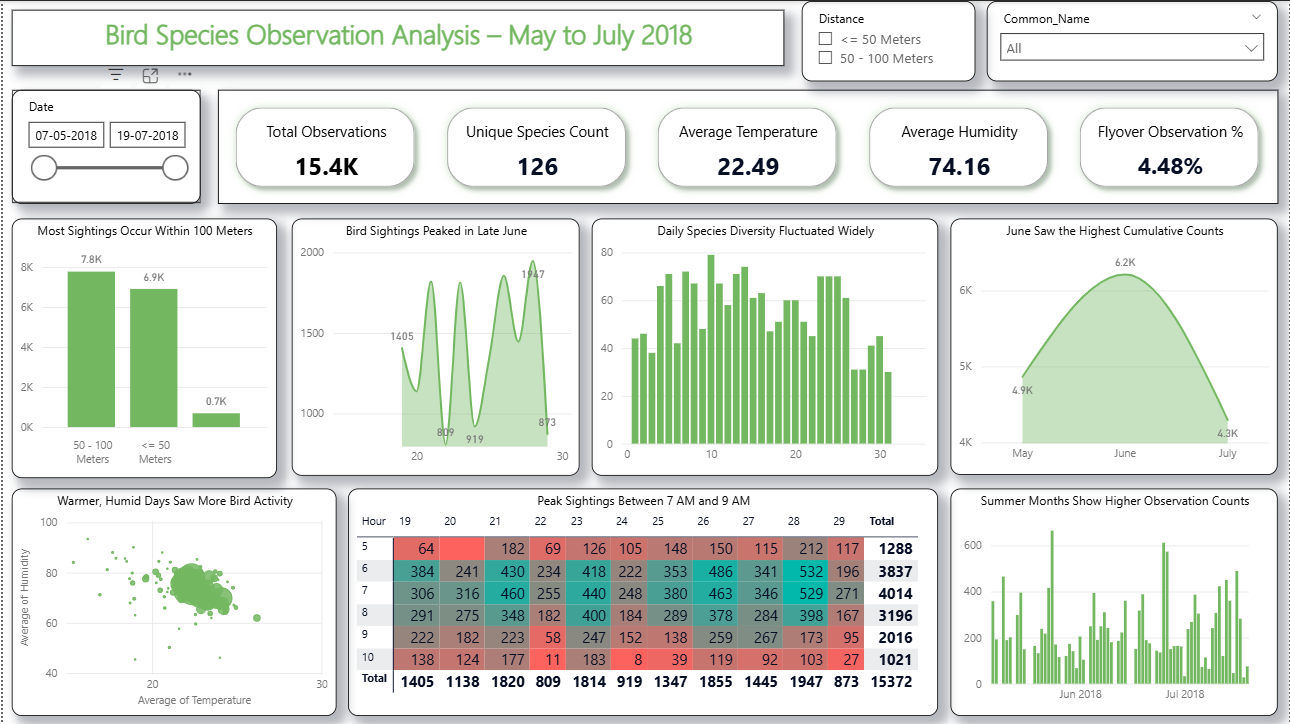

What the dashboard file says about the page in this screenshot:
{"tool":"powerbi","page":{"name":"Page 1","canvas":[1280,720],"ordinal":0},"visuals":[{"type":"cardVisual","fields":{"Data":["bird_observations_cleaned.Total Observations","bird_observations_cleaned.Unique Species Count","bird_observations_cleaned.Average Temperature","bird_observations_cleaned.Average Humidity","bird_observations_cleaned.Flyover Observation %"]},"box":[214,88.3,1054.9,113.2],"z":0},{"type":"lineChart","title":"Bird Sightings Peaked in Late June","fields":{"Y":["bird_observations_cleaned.Total Observations"],"Category":["bird_observations_cleaned.Week Number"]},"box":[287.4,216.4,286.1,256.3],"z":1000},{"type":"columnChart","title":"Daily Species Diversity Fluctuated Widely","fields":{"Category":["bird_observations_cleaned.Date.Variation.Date Hierarchy.Day"],"Y":["bird_observations_cleaned.Unique Species Count"]},"box":[585.9,216.4,344.6,256.3],"z":2000},{"type":"clusteredColumnChart","title":"Summer Months Show Higher Observation Counts","fields":{"Y":["CountNonNull(bird_observations_cleaned.Season)"],"Category":["bird_observations_cleaned.Date"]},"box":[942.9,485.1,325.9,226.4],"z":3000},{"type":"pivotTable","title":"Peak Sightings Between 7 AM and 9 AM","fields":{"Rows":["bird_observations_cleaned.Hour"],"Columns":["bird_observations_cleaned.Week Number"],"Values":["bird_observations_cleaned.Total Observations"]},"box":[343.3,485.1,587.1,226.4],"z":4000},{"type":"scatterChart","title":"Warmer, Humid Days Saw More Bird Activity","fields":{"X":["Avg(bird_observations_cleaned.Temperature)"],"Y":["Avg(bird_observations_cleaned.Humidity)"],"Size":["bird_observations_cleaned.Total Observations"],"Category":["bird_observations_cleaned.Common_Name"]},"box":[8.7,485.1,323.4,226.4],"z":4001},{"type":"lineChart","title":"June Saw the Highest Cumulative Counts","fields":{"Category":["bird_observations_cleaned.Date.Variation.Date Hierarchy.Month","bird_observations_cleaned.Date.Variation.Date Hierarchy.Day"],"Y":["bird_observations_cleaned.Cumulative Observations"]},"box":[942.9,216.4,325.9,255],"z":4002},{"type":"columnChart","title":"Most Sightings Occur Within 100 Meters","fields":{"Category":["bird_observations_cleaned.Distance"],"Y":["bird_observations_cleaned.Total Observations"]},"box":[8.7,216.4,263.7,258.7],"z":4003},{"type":"slicer","fields":{"Values":["bird_observations_cleaned.Date"]},"box":[8.7,88.3,187.8,113.2],"z":4004},{"type":"slicer","fields":{"Values":["bird_observations_cleaned.Common_Name"]},"box":[979,0,289.8,79.6],"z":4005},{"type":"slicer","fields":{"Values":["bird_observations_cleaned.Distance"]},"box":[794.9,0,172.9,79.6],"z":4006},{"type":"textbox","box":[8.7,8.7,768.8,56],"z":4007}]}

Visuals, with their boxes in screenshot pixels (x1, y1, x2, y2), scaled from the page's 1280x720 canvas onto the 1290x724 screenshot:
cardVisual - bird_observations_cleaned.Total Observations x bird_observations_cleaned.Unique Species Count: 216/89/1279/203
"Bird Sightings Peaked in Late June" lineChart: 290/218/578/475
"Daily Species Diversity Fluctuated Widely" columnChart: 590/218/938/475
"Summer Months Show Higher Observation Counts" clusteredColumnChart: 950/488/1279/715
"Peak Sightings Between 7 AM and 9 AM" pivotTable: 346/488/938/715
"Warmer, Humid Days Saw More Bird Activity" scatterChart: 9/488/335/715
"June Saw the Highest Cumulative Counts" lineChart: 950/218/1279/474
"Most Sightings Occur Within 100 Meters" columnChart: 9/218/275/478
slicer - bird_observations_cleaned.Date: 9/89/198/203
slicer - bird_observations_cleaned.Common_Name: 987/0/1279/80
slicer - bird_observations_cleaned.Distance: 801/0/975/80
textbox: 9/9/784/65
